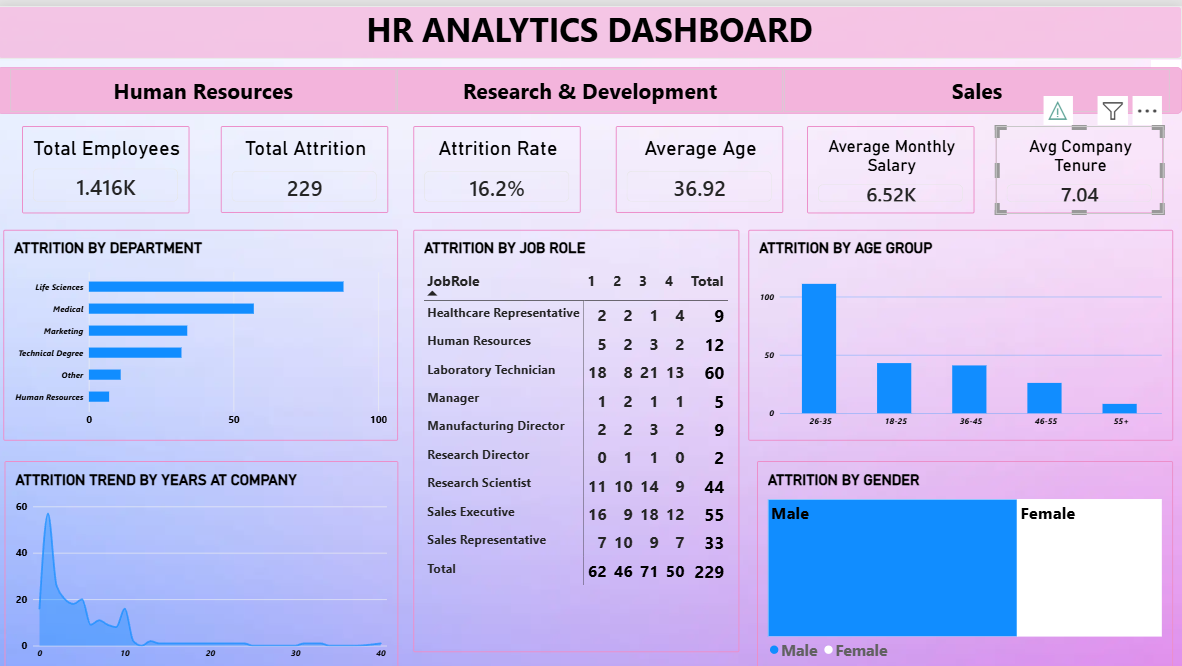

What the dashboard file says about the page in this screenshot:
{"tool":"powerbi","page":{"name":"Page 1","canvas":[1920,1080],"ordinal":0},"visuals":[{"type":"textbox","box":[0,0,1918.4,85],"z":0},{"type":"cardVisual","title":"Total Employees","fields":{"Data":["CountNonNull(HR_Analytics.EmpID)"]},"box":[40.5,194.3,271.2,141.7],"z":1},{"type":"cardVisual","title":"Total Attrition","fields":{"Data":["Sum(HR_Analytics.Attrition Count)"]},"box":[362.2,194.3,271.5,141.1],"z":2},{"type":"cardVisual","title":"Attrition Rate","fields":{"Data":["HR_Analytics.Attrition Rate"]},"box":[673.9,194.3,271.5,141.1],"z":3},{"type":"cardVisual","title":"Average Monthly Salary","fields":{"Data":["Avg(HR_Analytics.MonthlyIncome)"]},"box":[1311.3,194.3,271.2,141.7],"z":5},{"type":"cardVisual","title":"Avg Company Tenure","fields":{"Data":["Avg(HR_Analytics.YearsAtCompany)"]},"box":[1616.9,194.3,271.2,141.7],"z":6},{"type":"cardVisual","title":"Average Age","fields":{"Data":["Avg(HR_Analytics.Age)"]},"box":[1001.7,194.3,271.5,141.1],"z":7},{"type":"barChart","title":"ATTRITION BY DEPARTMENT","fields":{"Category":["HR_Analytics.EducationField"],"Y":["Sum(HR_Analytics.Attrition Count)"]},"box":[10.1,362.2,639.5,342],"z":8},{"type":"columnChart","title":"ATTRITION BY AGE GROUP","fields":{"Category":["HR_Analytics.AgeGroup"],"Y":["Sum(HR_Analytics.Attrition Count)"]},"box":[1216.2,362.2,688,342],"z":9},{"type":"pivotTable","title":"ATTRITION BY JOB ROLE","fields":{"Columns":["HR_Analytics.JobSatisfaction"],"Rows":["HR_Analytics.JobRole"],"Values":["Sum(HR_Analytics.Attrition Count)"]},"box":[673.9,362.2,528.2,684],"z":10},{"type":"lineChart","title":"ATTRITION TREND BY YEARS AT COMPANY","fields":{"Category":["HR_Analytics.YearsAtCompany"],"Y":["Sum(HR_Analytics.Attrition Count)"]},"box":[12.1,736.6,637.4,344],"z":11},{"type":"treemap","title":"ATTRITION BY GENDER","fields":{"Group":["HR_Analytics.Gender"],"Values":["Sum(HR_Analytics.Attrition Count)"]},"box":[1230.4,736.6,673.9,344],"z":12},{"type":"slicer","fields":{"Values":["HR_Analytics.Department"]},"box":[0,99.2,1918.4,74.9],"z":13}]}

Visuals, with their boxes in screenshot pixels (x1, y1, x2, y2), scaled from the page's 1920x1080 canvas onto the 1182x666 screenshot:
textbox: locate(0, 0, 1181, 52)
"Total Employees" cardVisual: locate(25, 120, 192, 207)
"Total Attrition" cardVisual: locate(223, 120, 390, 207)
"Attrition Rate" cardVisual: locate(415, 120, 582, 207)
"Average Monthly Salary" cardVisual: locate(807, 120, 974, 207)
"Avg Company Tenure" cardVisual: locate(995, 120, 1162, 207)
"Average Age" cardVisual: locate(617, 120, 784, 207)
"ATTRITION BY DEPARTMENT" barChart: locate(6, 223, 400, 434)
"ATTRITION BY AGE GROUP" columnChart: locate(749, 223, 1172, 434)
"ATTRITION BY JOB ROLE" pivotTable: locate(415, 223, 740, 645)
"ATTRITION TREND BY YEARS AT COMPANY" lineChart: locate(7, 454, 400, 665)
"ATTRITION BY GENDER" treemap: locate(757, 454, 1172, 665)
slicer - HR_Analytics.Department: locate(0, 61, 1181, 107)
